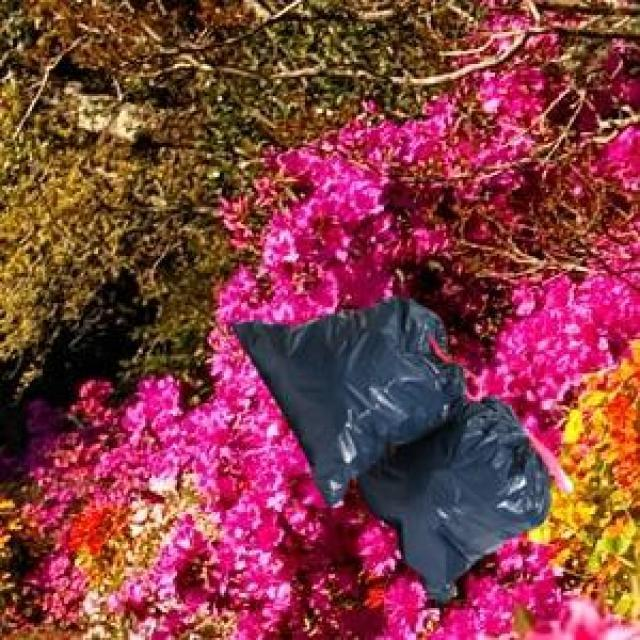waste: (236, 299, 549, 601)
